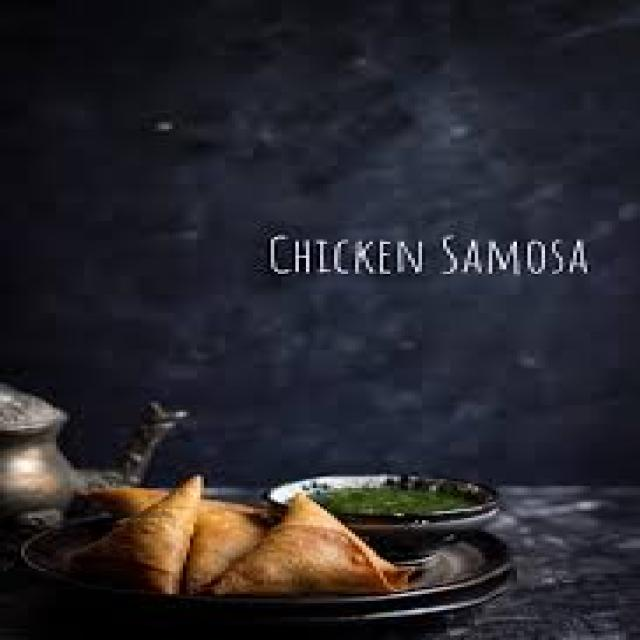SAMOSA: (211, 493, 408, 594), (60, 481, 200, 592), (186, 500, 264, 592)
